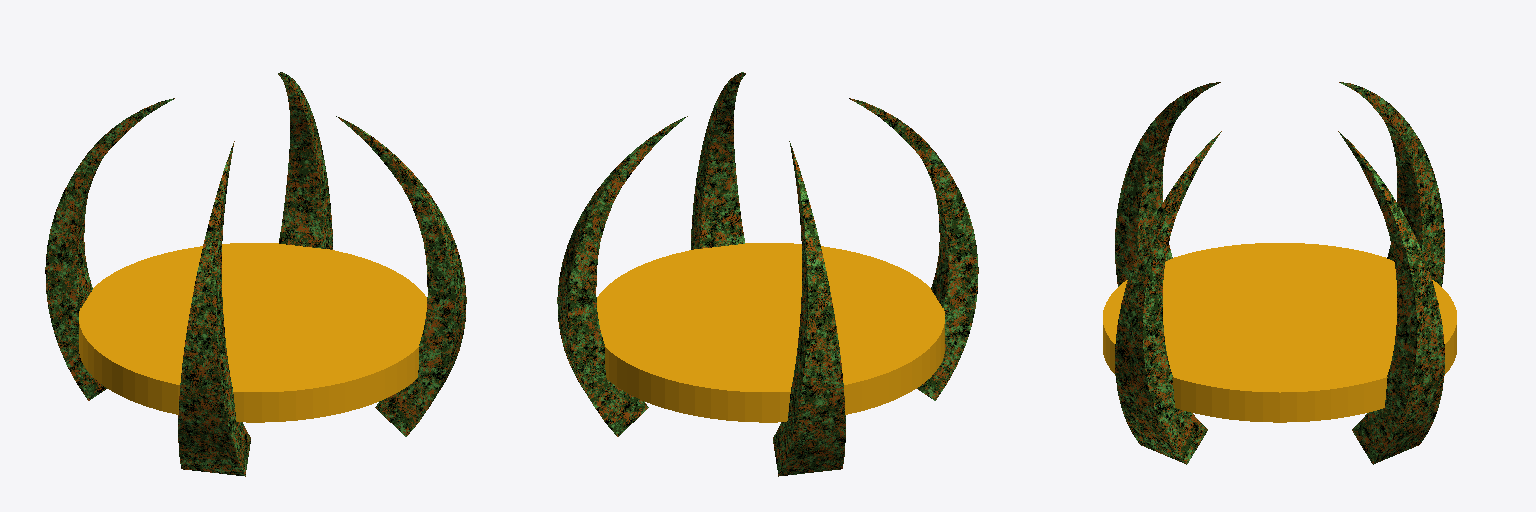
3 views of the same model, side by side, from view 1: azimuth 30°, elevation 25°; view 2: azimuth 150°, elevation 25°; view 3: azimuth 270°, elevation 25° (orthographic).
Visible parts, largest first — view 1: teleport_3; view 2: teleport_3; view 3: teleport_3.
Boxes of the visible parts, x1,y1,x2,y2 form: teleport_3: [45, 72, 466, 476]; teleport_3: [557, 72, 978, 476]; teleport_3: [1103, 82, 1456, 464].
Size of the model in its own units: 4 by 3.73 by 4.
2 materials, 2 textured.